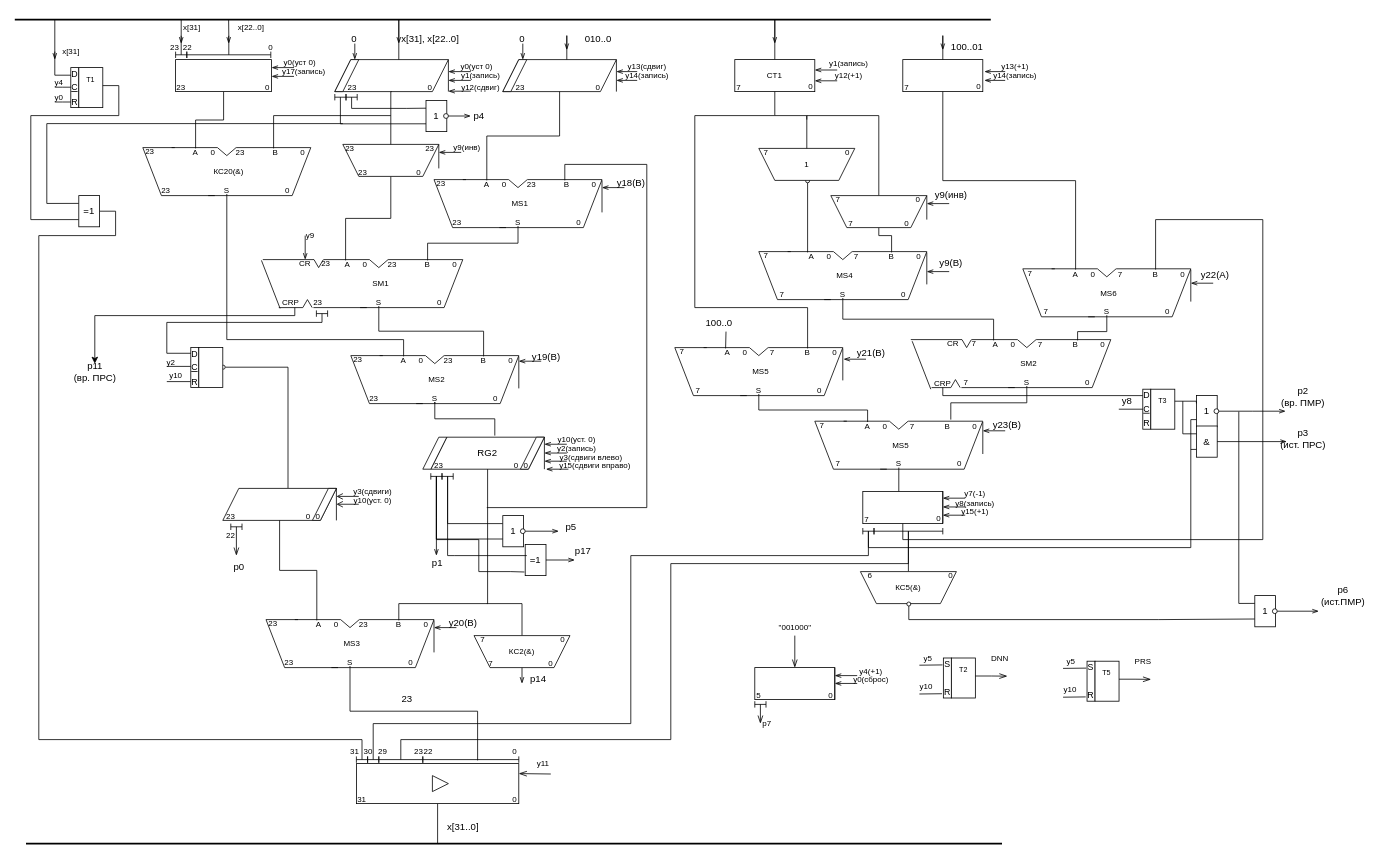
Some shapes in this 1388 by 859 pixel diagram are drawn without their labels. Each missing label, with the box of its shape:
CT2: (754, 667, 835, 700)
CT3: (902, 59, 983, 92)
CT4: (862, 491, 943, 524)
RG1: (334, 59, 448, 92)
RG3: (222, 488, 336, 520)
RG4: (502, 59, 616, 92)
RG5: (175, 59, 272, 92)
T4: (198, 347, 223, 388)
КС1(=1): (342, 144, 439, 176)
КС3(=1): (830, 195, 927, 228)
